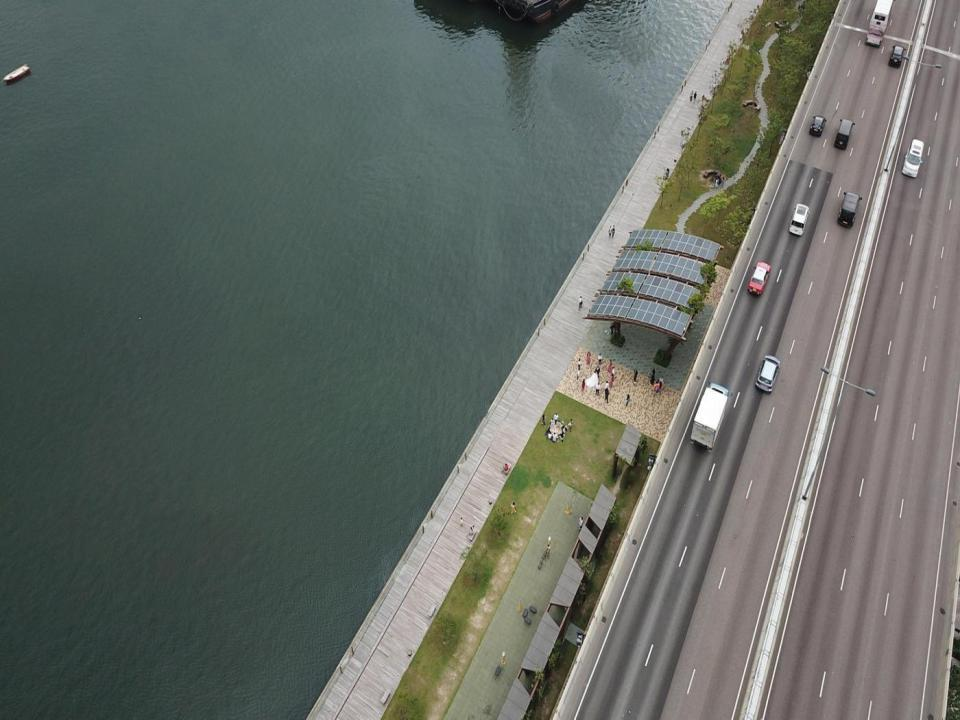car: (755, 354, 780, 396), (837, 190, 863, 228), (747, 260, 771, 296), (788, 203, 811, 236), (809, 112, 828, 138)
truck: (689, 382, 732, 451), (862, 0, 894, 49)
van: (902, 137, 925, 180), (832, 117, 855, 149), (888, 42, 908, 69)
